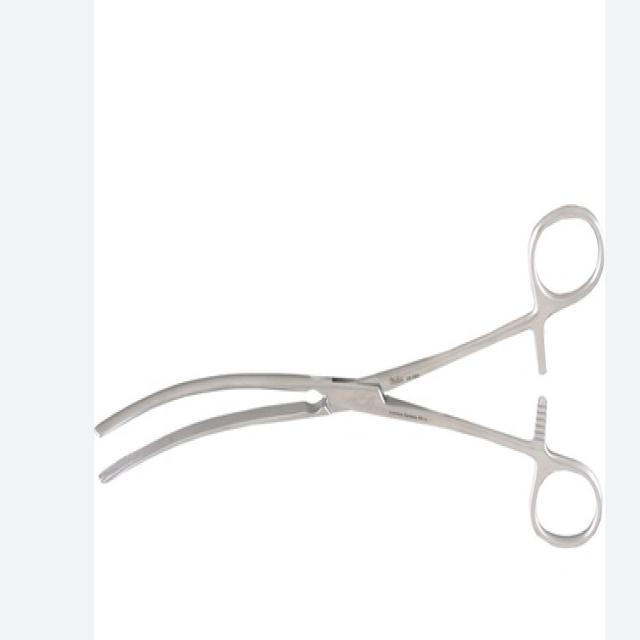Doyel Instestinal Forceps: (94, 202, 606, 546)
